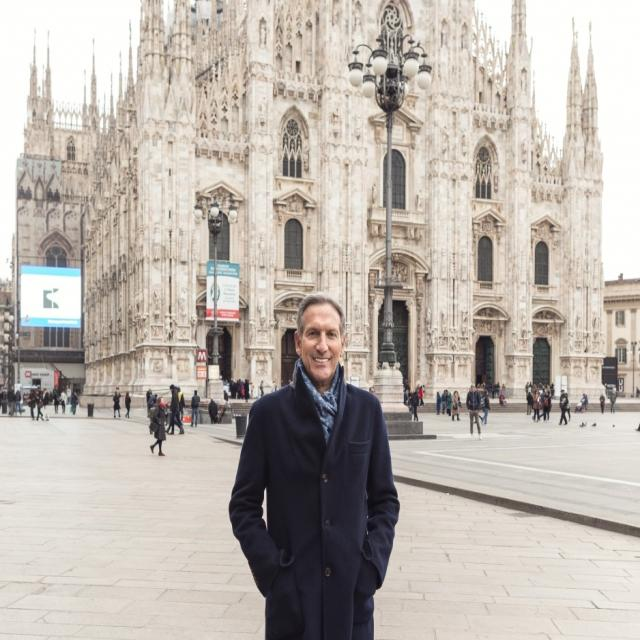body: (222, 287, 404, 639), (148, 395, 166, 457), (22, 383, 71, 404), (466, 382, 482, 442), (522, 381, 555, 409), (220, 376, 253, 400), (167, 382, 182, 434), (402, 382, 426, 414), (440, 388, 462, 417), (189, 388, 201, 428), (473, 381, 501, 398), (556, 388, 568, 426), (168, 411, 187, 434), (176, 386, 186, 424), (480, 388, 490, 426), (206, 396, 218, 426), (410, 387, 420, 423), (33, 388, 43, 422), (26, 388, 36, 421), (450, 389, 460, 421), (532, 388, 541, 423), (542, 389, 550, 423), (58, 388, 68, 415), (112, 389, 121, 418), (6, 385, 14, 417), (562, 392, 571, 420), (123, 390, 131, 420), (14, 388, 22, 416), (70, 389, 78, 416), (52, 388, 59, 415), (148, 393, 158, 411), (41, 386, 50, 406), (609, 389, 616, 414), (579, 392, 587, 413), (243, 377, 249, 402), (436, 390, 442, 415), (526, 391, 532, 416), (0, 386, 6, 409), (145, 387, 153, 404), (599, 392, 605, 413), (498, 391, 506, 406), (259, 379, 265, 398), (472, 413, 482, 424), (524, 381, 530, 399), (280, 378, 292, 387), (500, 382, 506, 398), (368, 385, 377, 395), (223, 389, 229, 402), (634, 386, 640, 398), (272, 380, 277, 392), (634, 422, 639, 432)
